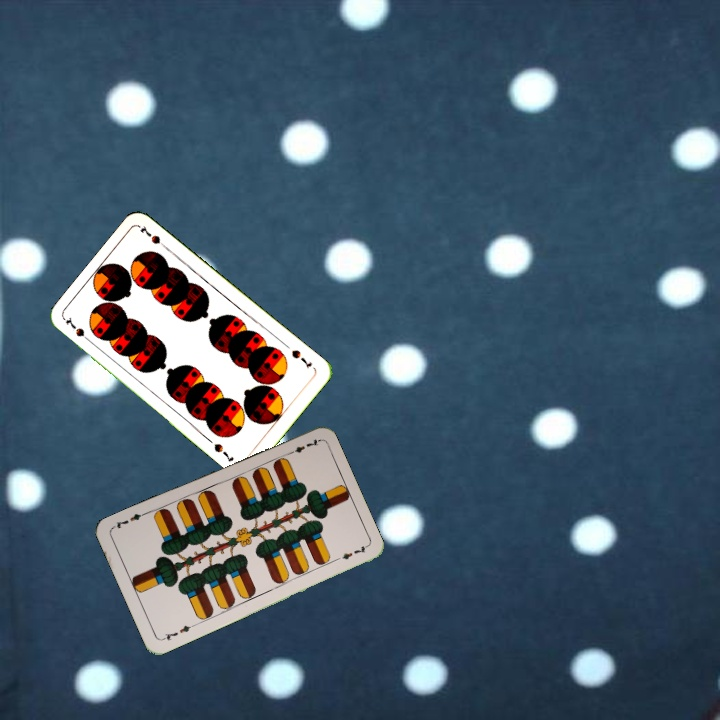E7: (158, 620, 197, 643), (282, 435, 321, 458)
S7: (61, 313, 95, 346), (287, 346, 315, 371)
